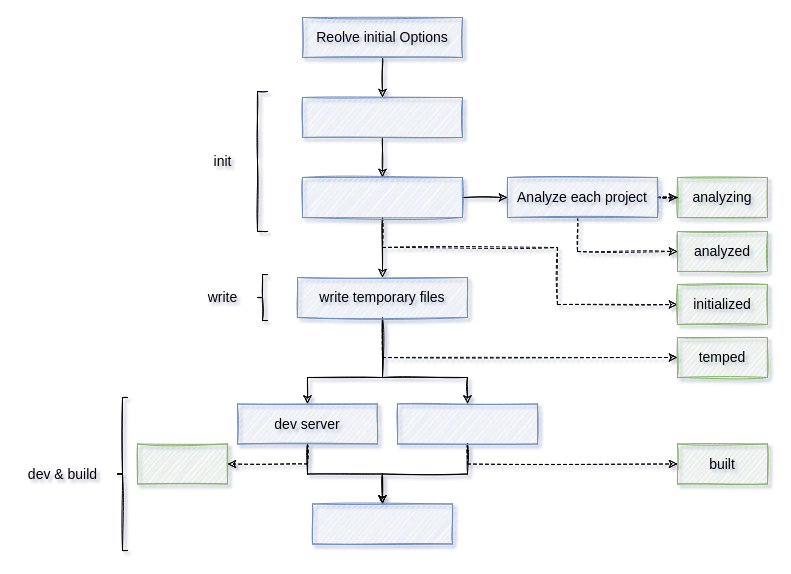
Image size: 791x574. Some labels were removed from this diagram. The shapes that lost their labels are listed below. From the top down, each one's centre as x and y in pixels, then its label:
point (382, 117): Call Plugin Function
point (382, 197): Analyze projects
point (467, 423): build static website
point (182, 463): watching
point (382, 523): done
